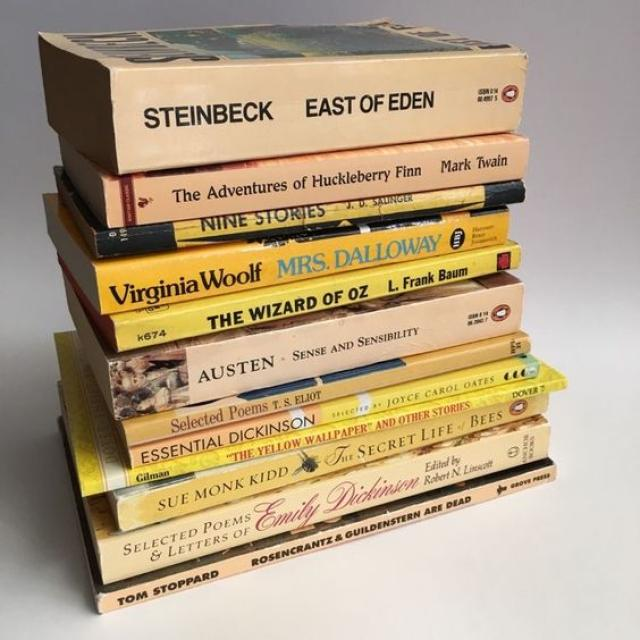book: (100, 424, 549, 584), (98, 466, 558, 615), (117, 395, 548, 532), (81, 379, 567, 498), (110, 282, 524, 421), (110, 57, 526, 175), (131, 361, 540, 470), (126, 336, 527, 447), (96, 211, 506, 317), (113, 247, 519, 354), (103, 142, 528, 230), (95, 183, 525, 258)
